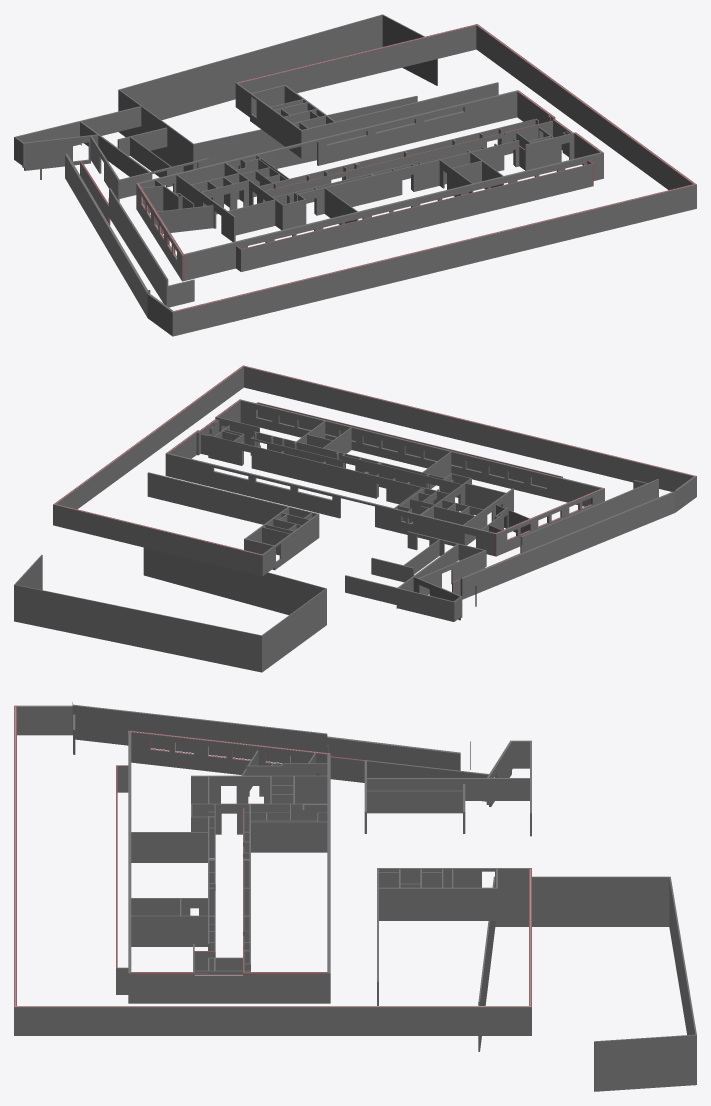
Rendered from Building Model - Excavation and Trench - updated_1kn71nZ$z5OvtVVlfMp9Jm-Piso -1_IfcWallStandardCase.dae.
3 renders of one model, top to bottom at view 1: azimuth 30°, elevation 25°; view 2: azimuth 150°, elevation 25°; view 3: azimuth 270°, elevation 25°, orthographic. The views are drawn at different scales.
Parts seen in each view (by area): view 1: 0OClvwlRvDUQxX0R9Q72gq, 0IQ89P1CTET9MhZciF_BLq, 08Enbf8kXAKRZlJEf_0E1E, 3LmKHKgTX999bYcg3Opi6I, 0OClvwlRvDUQxX0R9Q72ba, 0OClvwlRvDUQxX0R9Q72Yq, 3LmKHKgTX999bYcg3Opi_K, 0IQ89P1CTET9MhZciF_BT_, 1L_1$13pPElh8A12kpmEdO, 0OClvwlRvDUQxX0R9Q72ep, 1HX0jLSlj3ZeUmf7rRKA72, 08Enbf8kXAKRZlJEf_0E1s (+32 smaller); view 2: 0OClvwlRvDUQxX0R9Q72gq, 0IQ89P1CTET9MhZciF_BLq, 3LmKHKgTX999bYcg3Opi6I, 3LmKHKgTX999bYcg3Opi_K, 0IQ89P1CTET9MhZciF_BT_, 0OClvwlRvDUQxX0R9Q72ep, 0OClvwlRvDUQxX0R9Q72Yq, 0OClvwlRvDUQxX0R9Q72ba, 08Enbf8kXAKRZlJEf_0E2M, 1L_1$13pPElh8A12kpmEdO, 2Or2cuiiX3deGxpYH_dukK, 0IQ89P1CTET9MhZciF_BN2 (+18 smaller); view 3: 0OClvwlRvDUQxX0R9Q72ba, 0IQ89P1CTET9MhZciF_BN2, 2Or2cuiiX3deGxpYH_dukK, 0IQ89P1CTET9MhZciF_BUS, 08Enbf8kXAKRZlJEf_0E2n, 08Enbf8kXAKRZlJEf_0E0z, 08Enbf8kXAKRZlJEf_0E10, 1YigJ5bnD2GRkRsbvXLICC, 0OClvwlRvDUQxX0R9Q72ep, 0WTBieNd9ErQW6KpA_DZ_F, 08Enbf8kXAKRZlJEf_0E1d, 08Enbf8kXAKRZlJEf_0E1b (+18 smaller).
Boxes of the visible parts, x1,y1,x2,y2 form: 0OClvwlRvDUQxX0R9Q72gq: [171, 184, 694, 336]; 0IQ89P1CTET9MhZciF_BLq: [118, 14, 382, 119]; 08Enbf8kXAKRZlJEf_0E1E: [242, 163, 593, 271]; 3LmKHKgTX999bYcg3Opi6I: [139, 90, 518, 193]; 0OClvwlRvDUQxX0R9Q72ba: [476, 25, 696, 208]; 0OClvwlRvDUQxX0R9Q72Yq: [237, 24, 478, 93]; 3LmKHKgTX999bYcg3Opi_K: [184, 152, 603, 280]; 0IQ89P1CTET9MhZciF_BT_: [194, 96, 417, 169]; 1L_1$13pPElh8A12kpmEdO: [335, 82, 498, 141]; 0OClvwlRvDUQxX0R9Q72ep: [65, 153, 150, 317]; 1HX0jLSlj3ZeUmf7rRKA72: [264, 133, 503, 204]; 08Enbf8kXAKRZlJEf_0E1s: [396, 141, 516, 196]; 0OClvwlRvDUQxX0R9Q72gq: [244, 366, 696, 497]; 0IQ89P1CTET9MhZciF_BLq: [14, 584, 262, 672]; 3LmKHKgTX999bYcg3Opi6I: [165, 453, 495, 555]; 3LmKHKgTX999bYcg3Opi_K: [239, 399, 602, 506]; 0IQ89P1CTET9MhZciF_BT_: [143, 547, 325, 614]; 0OClvwlRvDUQxX0R9Q72ep: [460, 488, 675, 599]; 0OClvwlRvDUQxX0R9Q72Yq: [53, 503, 261, 575]; 0OClvwlRvDUQxX0R9Q72ba: [54, 365, 244, 509]; 08Enbf8kXAKRZlJEf_0E2M: [238, 442, 449, 504]; 1L_1$13pPElh8A12kpmEdO: [147, 472, 288, 524]; 2Or2cuiiX3deGxpYH_dukK: [520, 479, 658, 553]; 0IQ89P1CTET9MhZciF_BN2: [262, 588, 326, 671]; 0OClvwlRvDUQxX0R9Q72ba: [14, 1006, 528, 1035]; 0IQ89P1CTET9MhZciF_BN2: [494, 876, 669, 926]; 2Or2cuiiX3deGxpYH_dukK: [73, 704, 328, 763]; 0IQ89P1CTET9MhZciF_BUS: [594, 1034, 695, 1091]; 08Enbf8kXAKRZlJEf_0E2n: [128, 730, 330, 775]; 08Enbf8kXAKRZlJEf_0E0z: [379, 887, 497, 920]; 08Enbf8kXAKRZlJEf_0E10: [367, 778, 529, 800]; 1YigJ5bnD2GRkRsbvXLICC: [243, 972, 327, 1003]; 0OClvwlRvDUQxX0R9Q72ep: [72, 702, 460, 770]; 0WTBieNd9ErQW6KpA_DZ_F: [251, 821, 327, 852]; 08Enbf8kXAKRZlJEf_0E1d: [131, 915, 207, 946]; 08Enbf8kXAKRZlJEf_0E1b: [131, 832, 207, 862].
Size of the model in its own units: 64.79 by 61.97 by 10.38.
